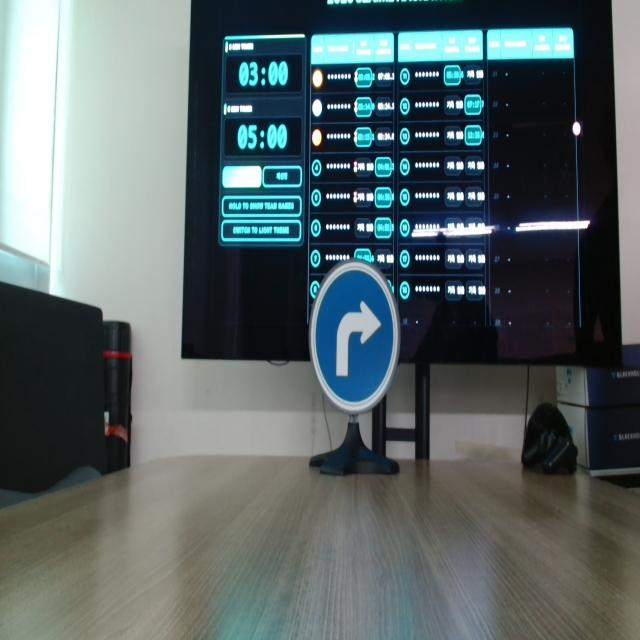right_dierection: (311, 253, 398, 416)
